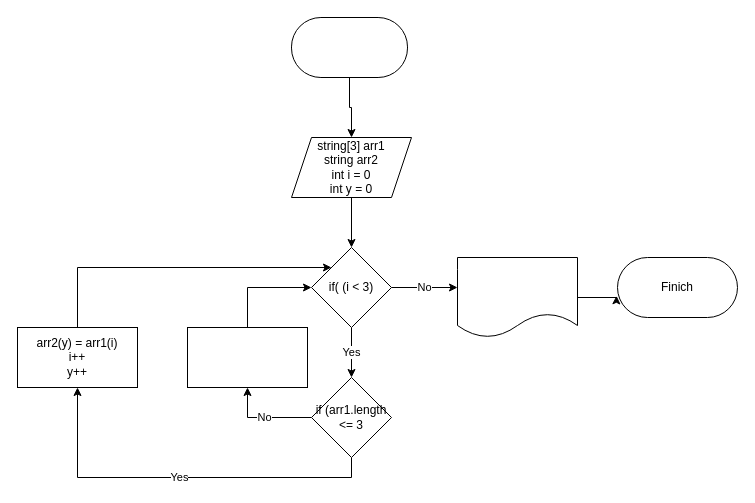
Some shapes in this 755 by 503 pixel diagram are drawn without their labels. The centre of each missing label's shape, as x and y in pixels:
"i +=1" belongs at (247,357).
"Print arr2" belongs at (517,297).
"Start" belongs at (349,47).
